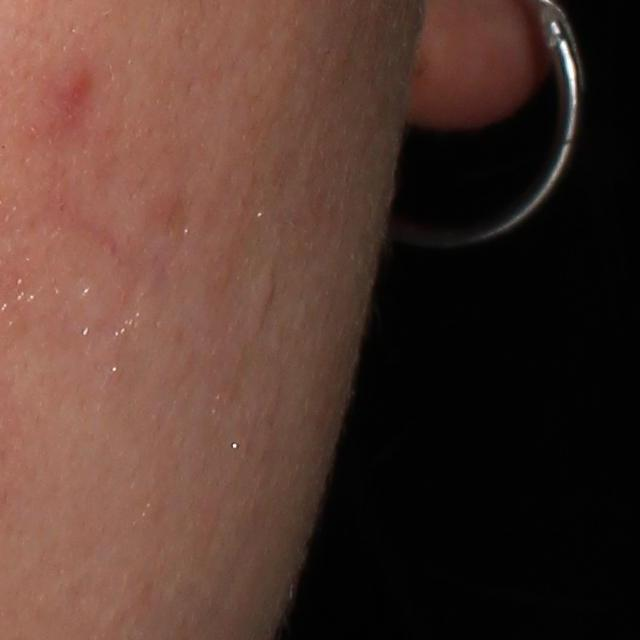papule: (60, 60, 97, 109)
